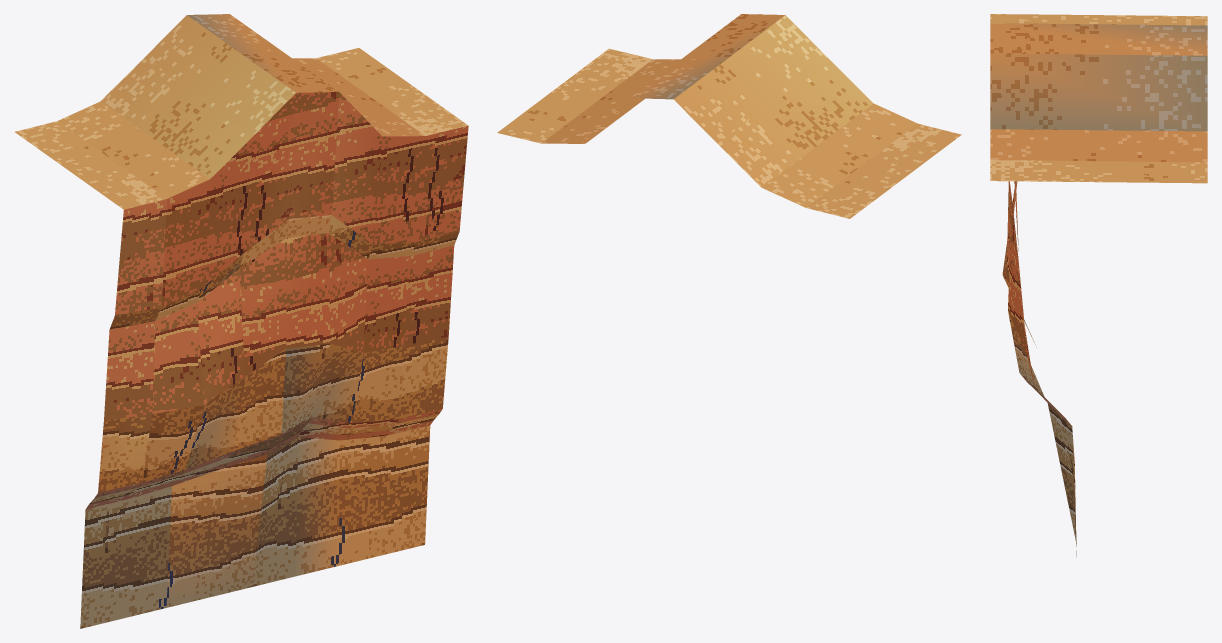
The model's file is wland.canyon_wall.glb.
3 renders of one model, left to right at view 1: azimuth 30°, elevation 25°; view 2: azimuth 150°, elevation 25°; view 3: azimuth 270°, elevation 25°, orthographic. The views are drawn at different scales.
Visible parts, largest first — view 1: kit_shell_face, kit_shell_cap; view 2: kit_shell_cap; view 3: kit_shell_cap, kit_shell_face.
Part boxes in pixels (left/top/right/bottom): kit_shell_face: left=80, top=92, right=468, bottom=628; kit_shell_cap: left=15, top=14, right=467, bottom=209; kit_shell_cap: left=497, top=14, right=961, bottom=218; kit_shell_cap: left=990, top=14, right=1207, bottom=183; kit_shell_face: left=1002, top=181, right=1076, bottom=556.
Bounding box in the file's own units: 8 × 11.66 × 4.4.
Materials: 3 (3 with a texture image).
